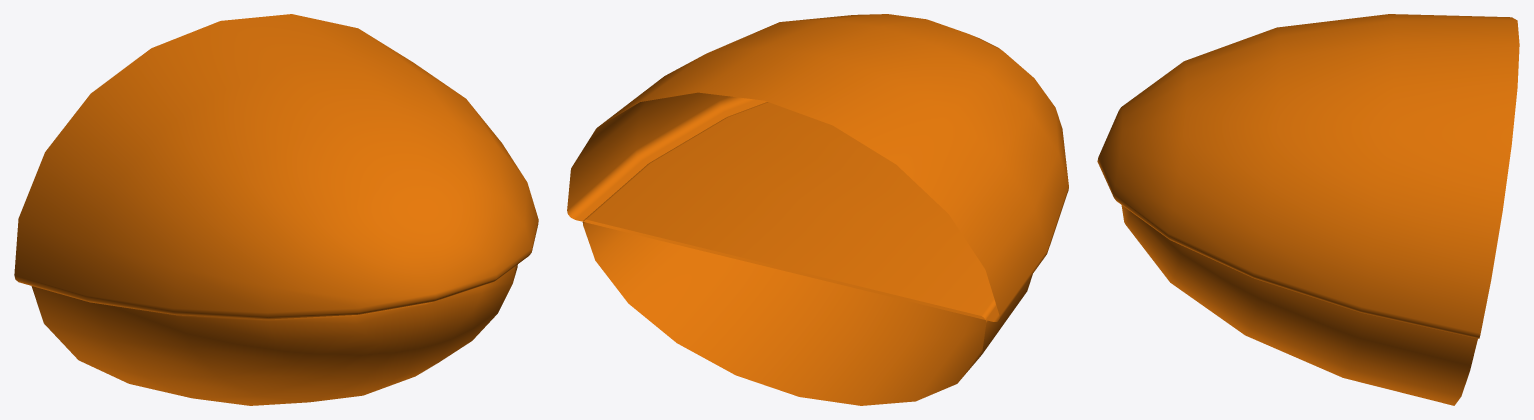
Rendered from Beak02.fbx.
3 renders of one model, left to right at view 1: azimuth 30°, elevation 25°; view 2: azimuth 150°, elevation 25°; view 3: azimuth 270°, elevation 25°, orthographic. The views are drawn at different scales.
Visible parts, largest first — view 1: Beak02; view 2: Beak02; view 3: Beak02.
Boxes of the visible parts, left/top/right/bottom form: Beak02: left=14, top=14, right=538, bottom=405; Beak02: left=567, top=14, right=1068, bottom=405; Beak02: left=1097, top=14, right=1519, bottom=405.
Size of the model in its own units: 21.86 by 18.07 by 15.55.
1 material, 1 textured.
